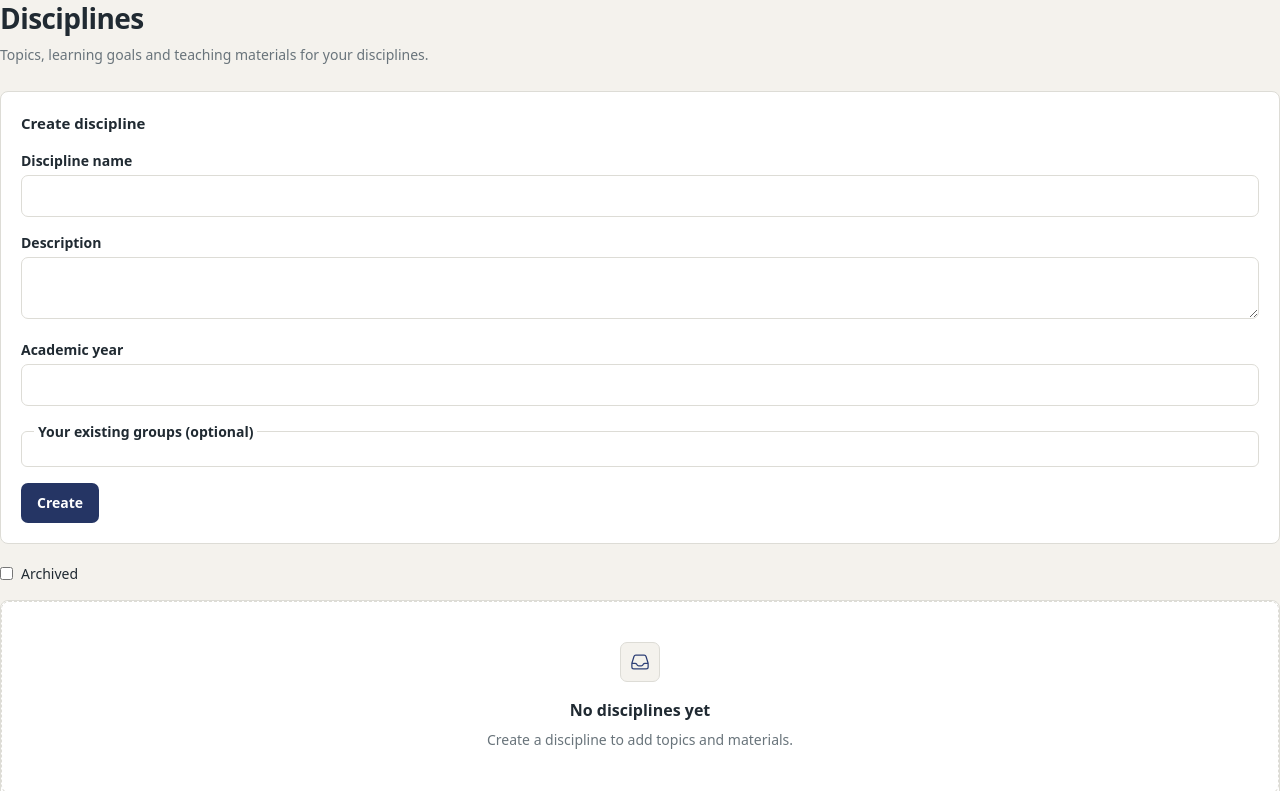
Test: creates a discipline, opens it, and creates a topic with its learning goal
Check: the heading "No disciplines yet" is shown, box 570,699 -> 710,721
In the field labelled "Discipline name": (640, 196) 21,175 -> 1259,217, type " Web Development "
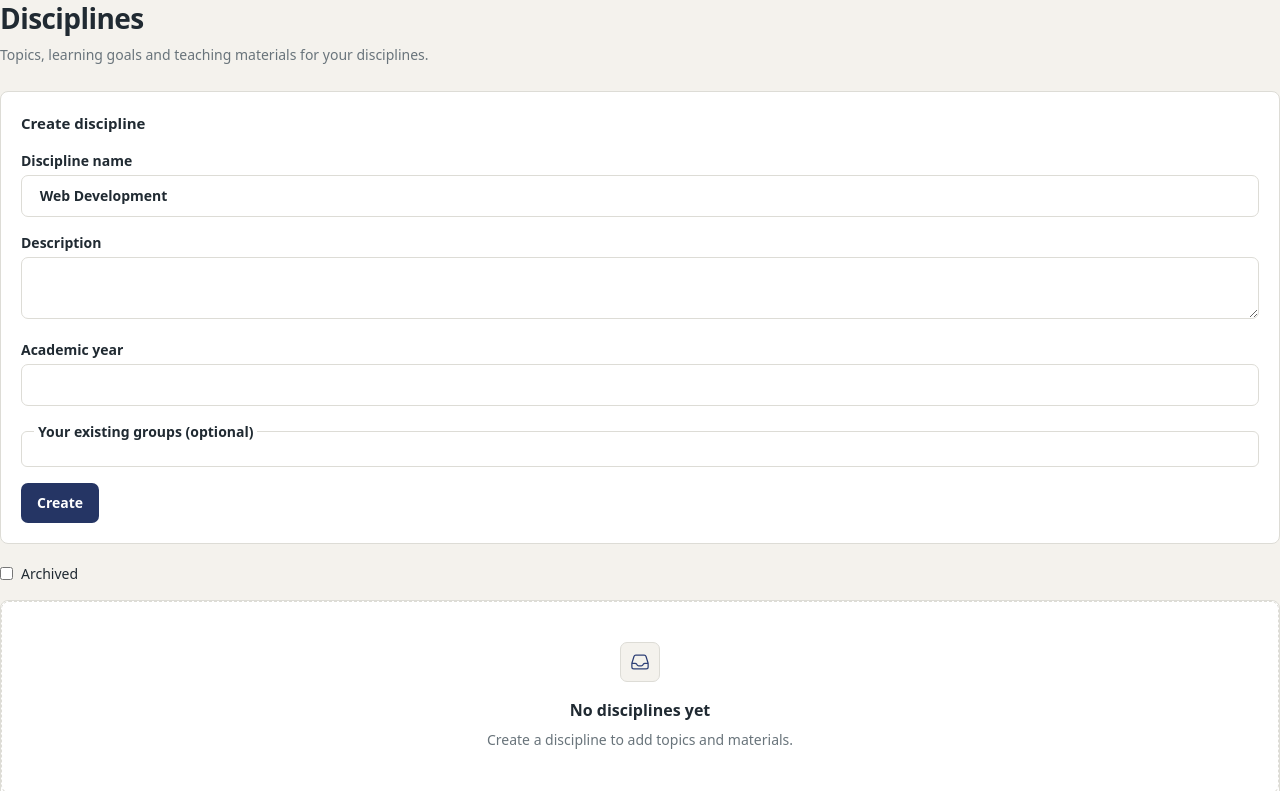
Click the button "Create": (60, 503) 21,483 -> 99,523
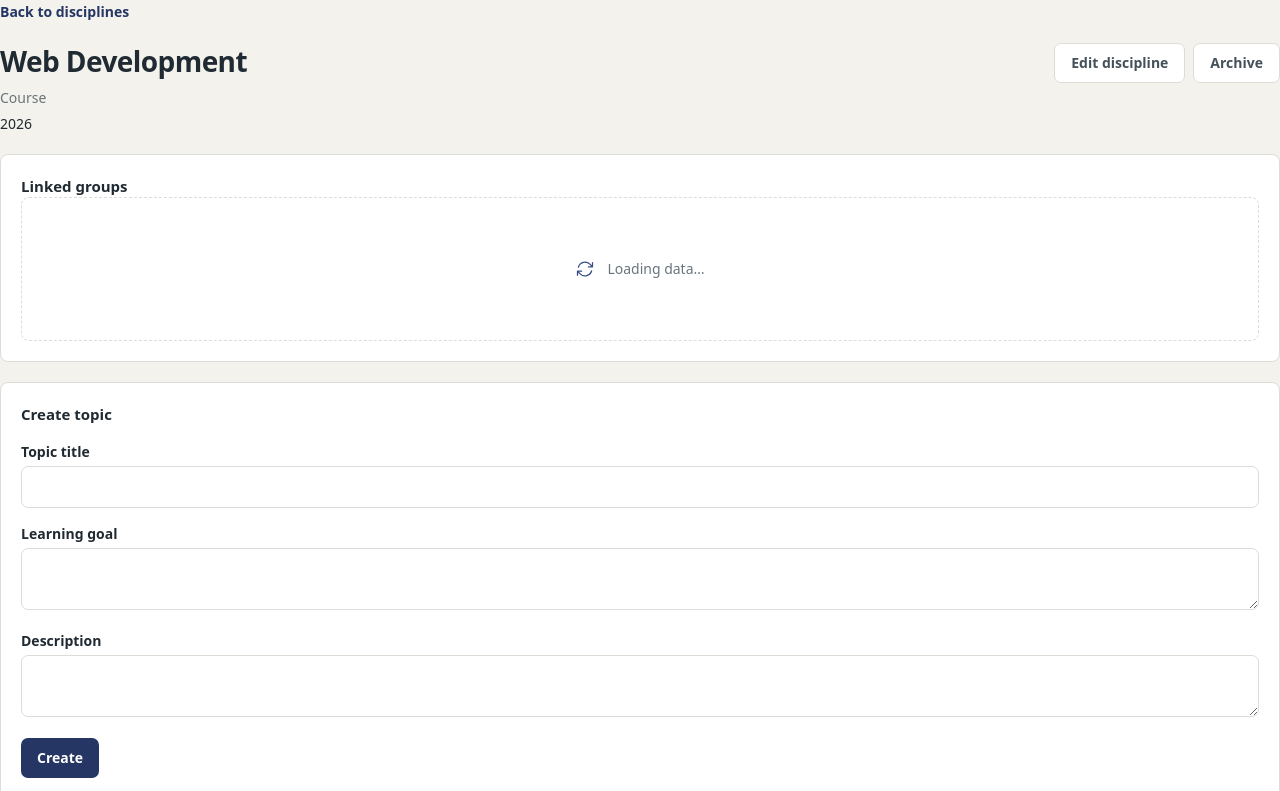
Check: the heading "Web Development" is shown, box 0,42 -> 247,80
In the field labelled "Topic title": (640, 487) 21,466 -> 1259,508, type "React Hooks"
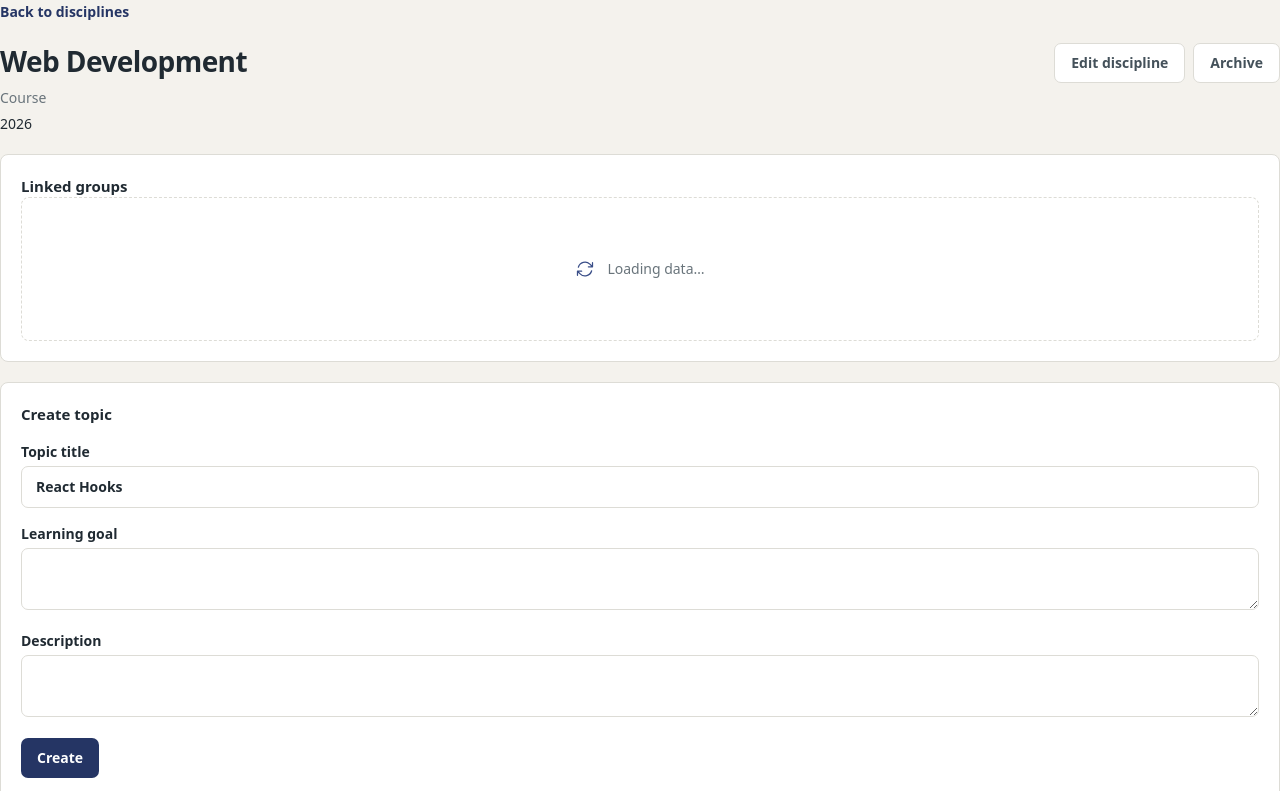
In the text box labelled "Learning goal": (640, 579) 21,548 -> 1259,610, type "Use useState and useEffect"
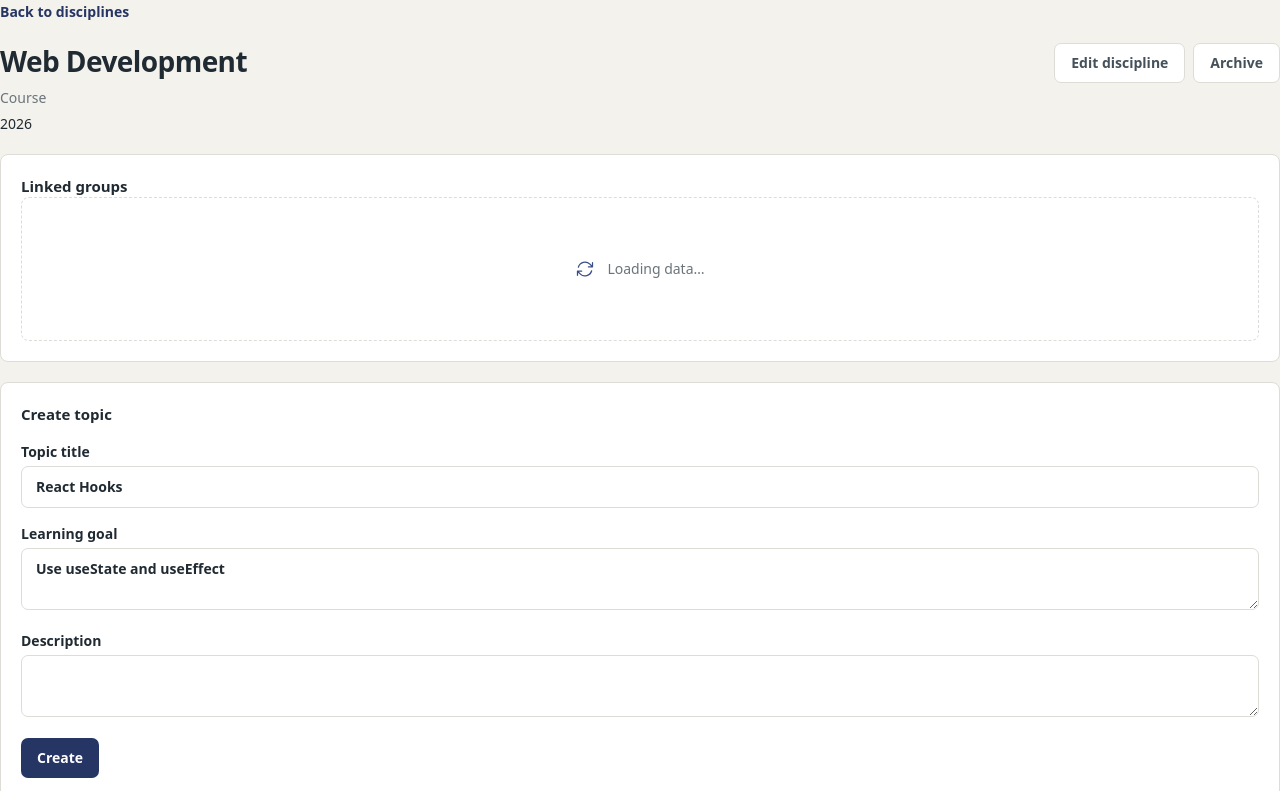
Click the button "Create": (60, 758) 21,738 -> 99,778
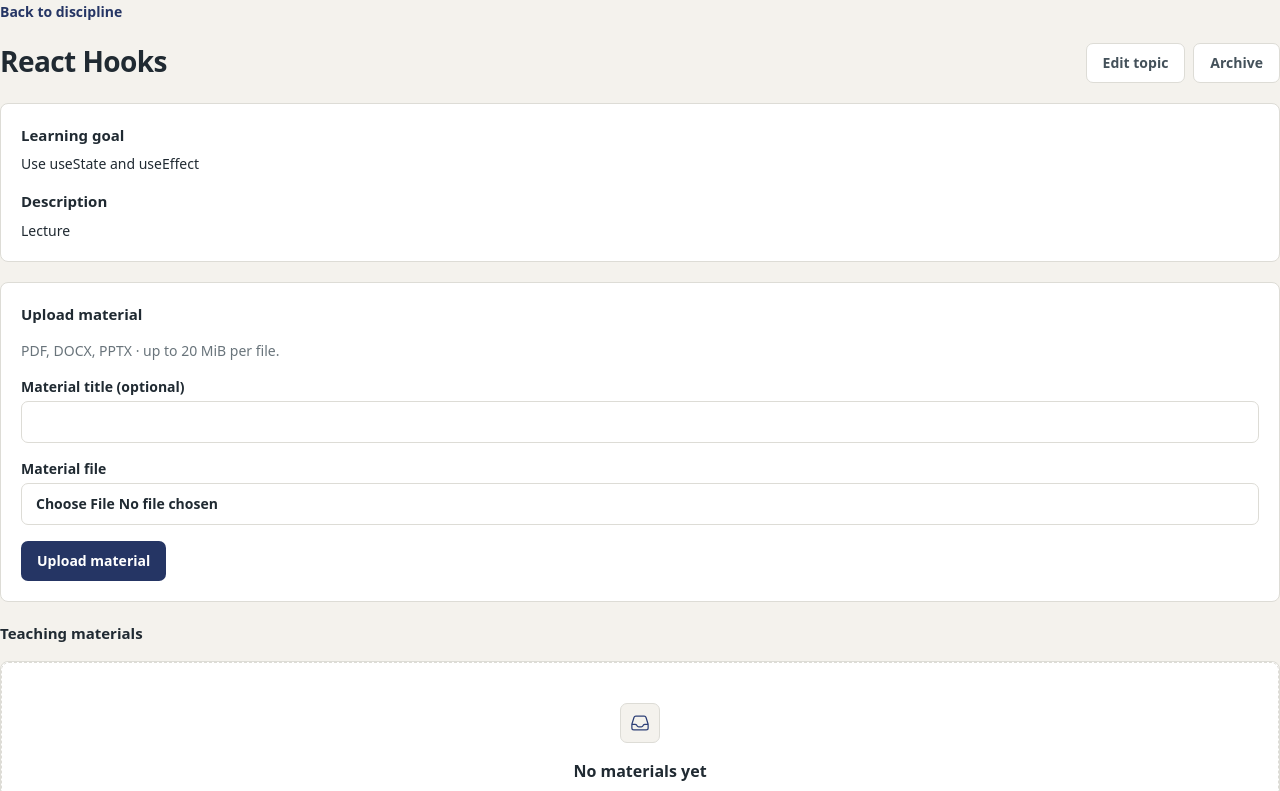
Check: the heading "React Hooks" is shown, box 0,42 -> 167,80
Check: the text "Use useState and useEffect" is shown, box 21,154 -> 199,173
